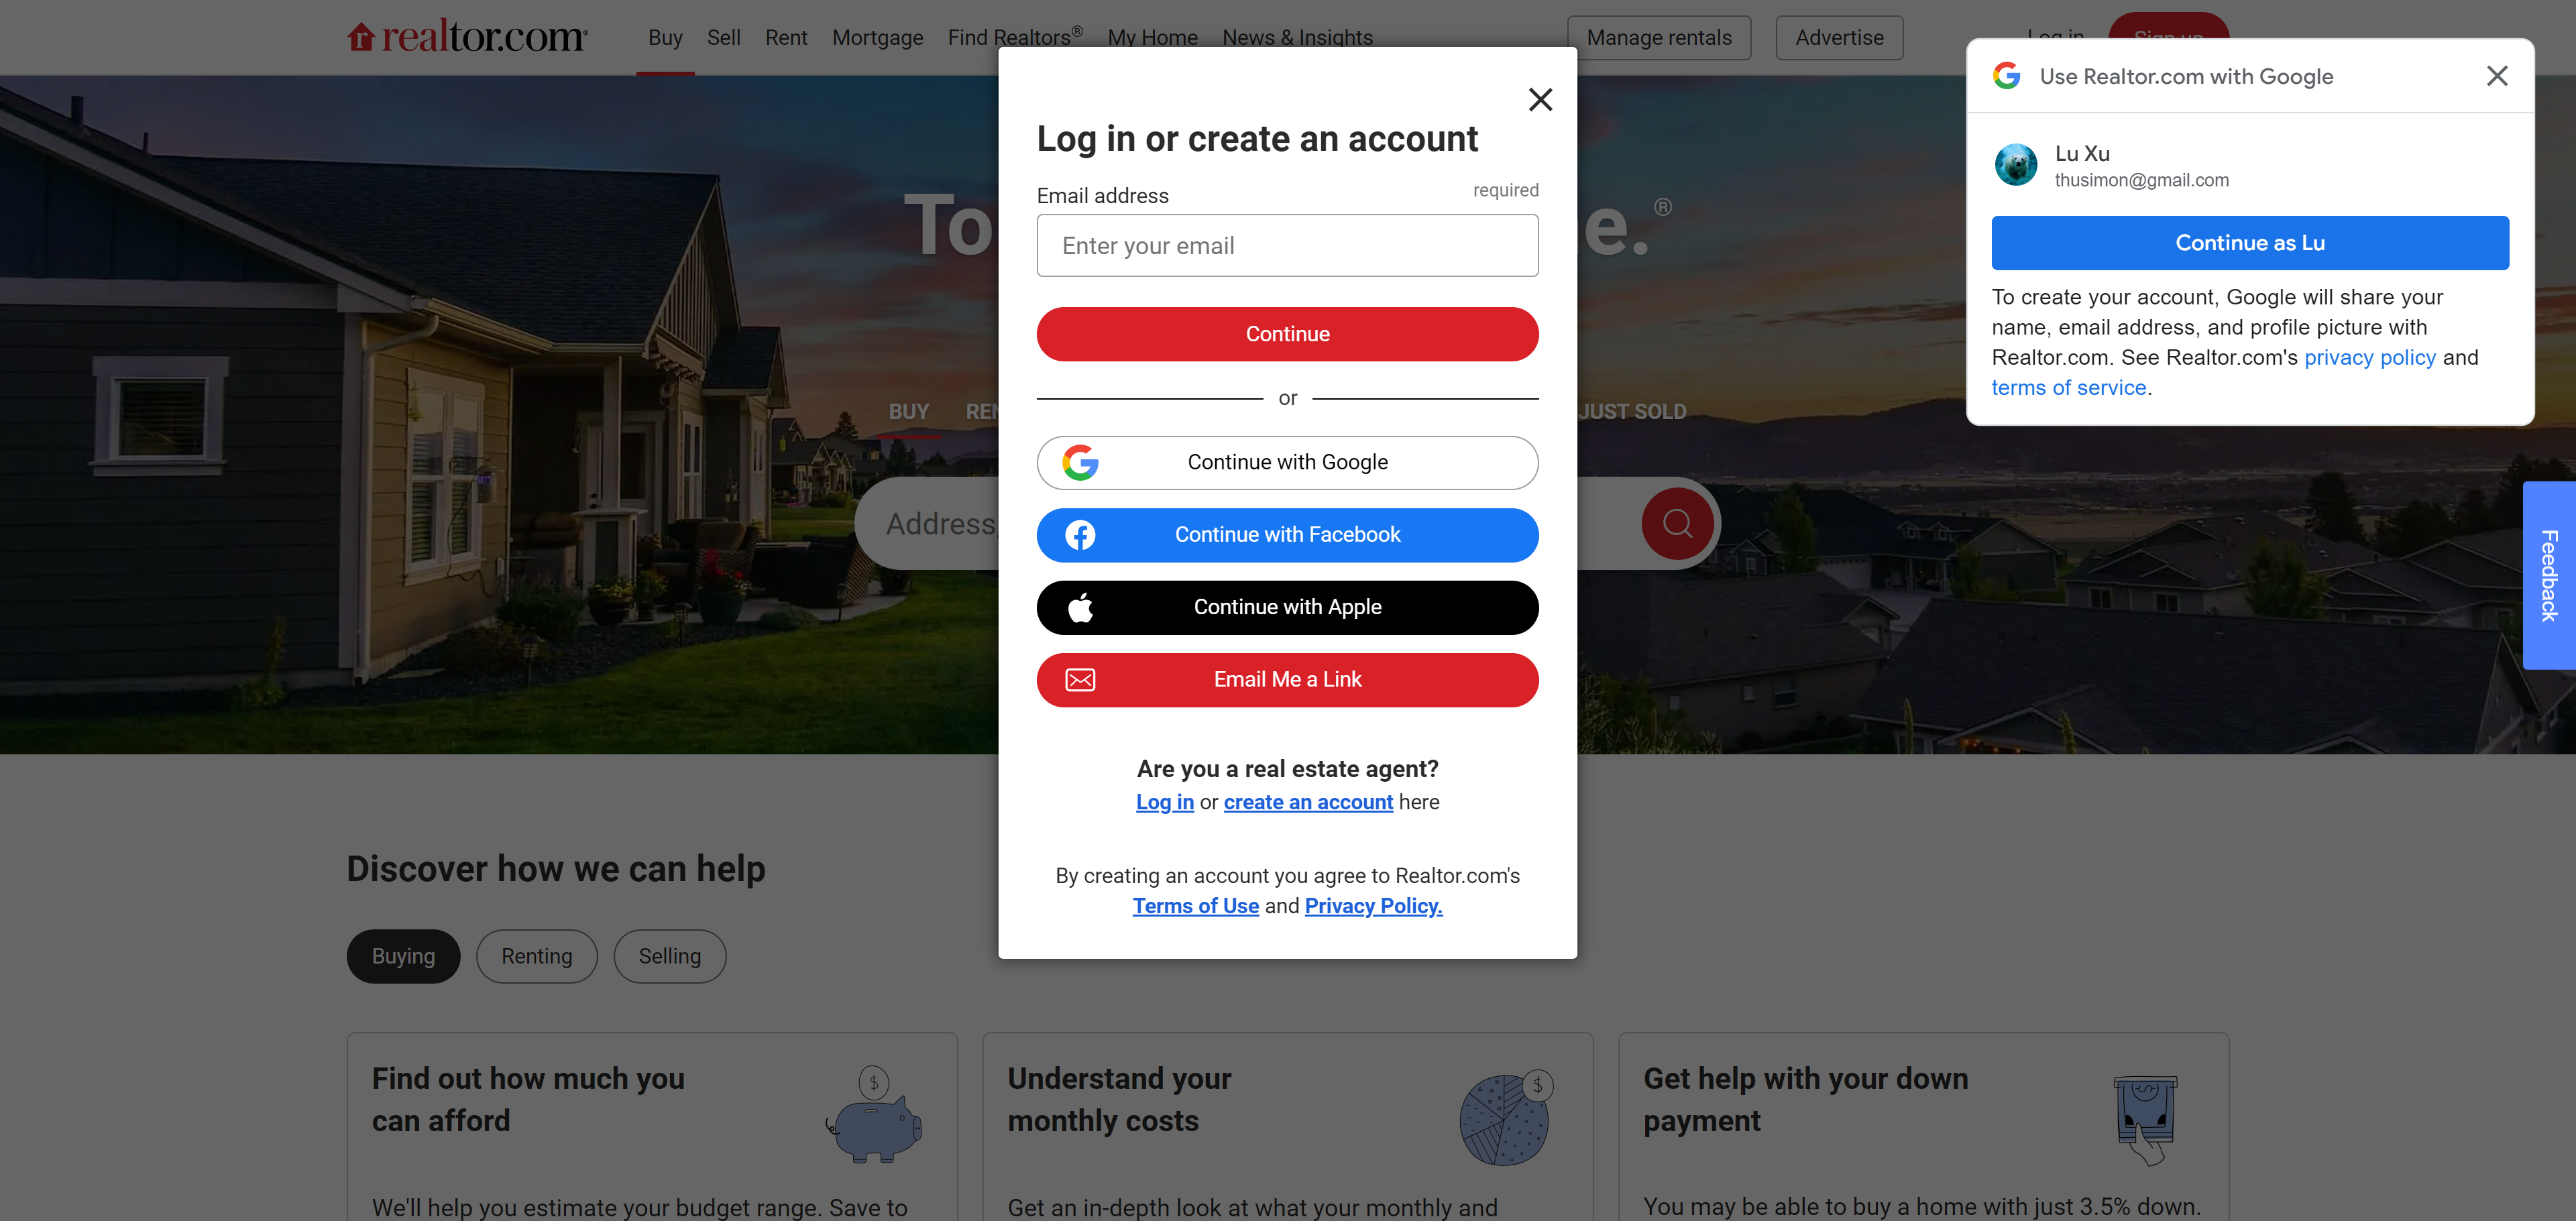login_button: (1038, 307, 1539, 363)
login_form: (1030, 181, 1548, 368)
